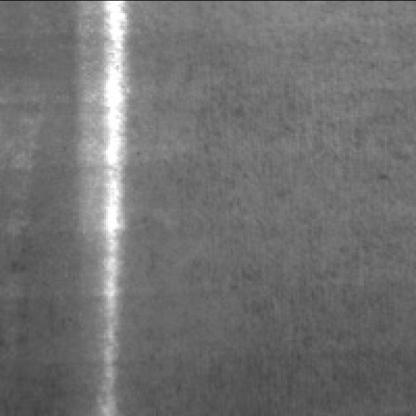scratches: (79, 4, 135, 416)
